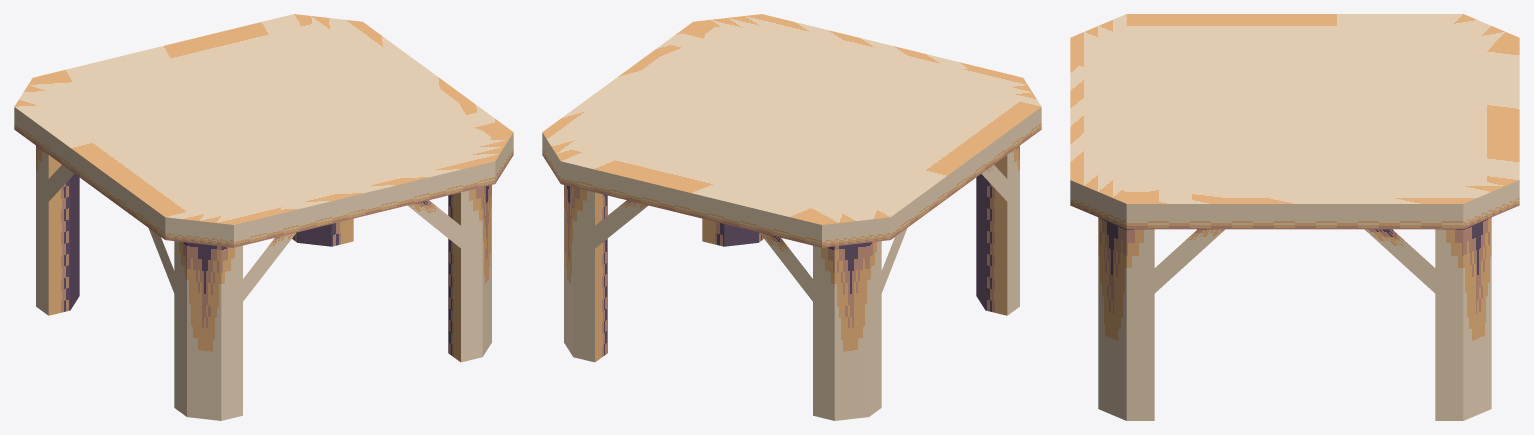
File: table.gltf
3 renders of one model, left to right at view 1: azimuth 30°, elevation 25°; view 2: azimuth 150°, elevation 25°; view 3: azimuth 270°, elevation 25°, orthographic. The views are drawn at different scales.
Size of the model in its own units: 4 by 2.25 by 4.
Materials: 1 (1 with a texture image).
